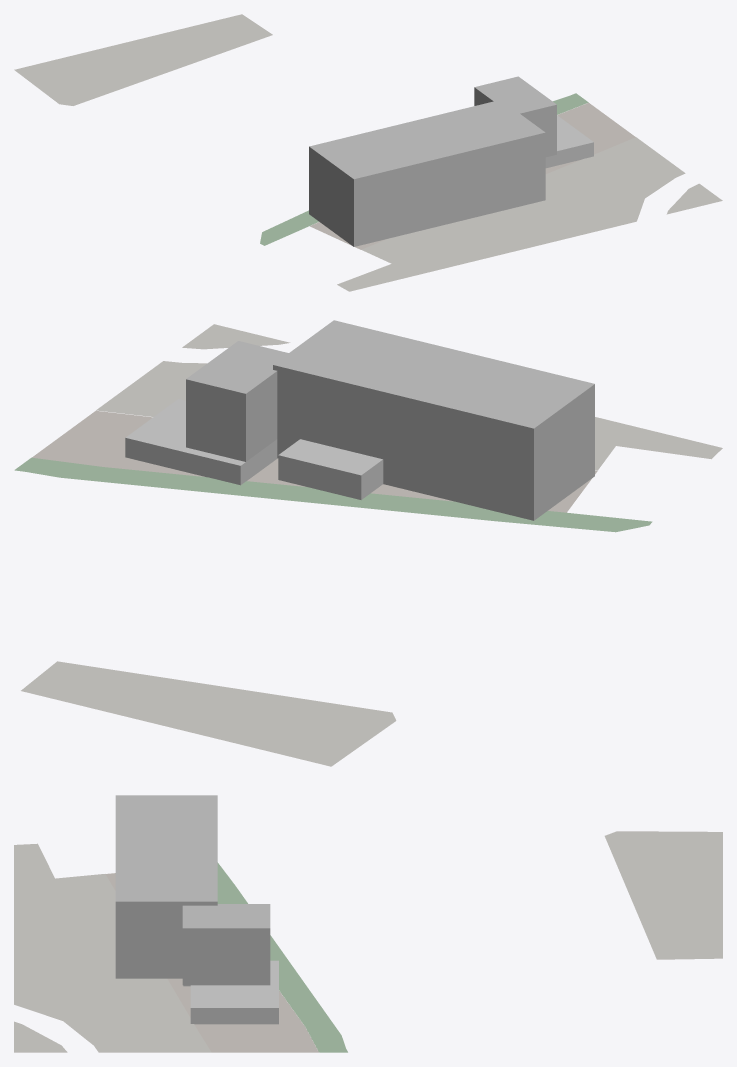
The model's file is 96_103_mid.glb.
The picture shows the model from 3 angles, top to bottom: view 1: azimuth 30°, elevation 25°; view 2: azimuth 150°, elevation 25°; view 3: azimuth 270°, elevation 25°; orthographic projection. The views are drawn at different scales.
Size of the model in its own units: 370 by 60.26 by 500.
